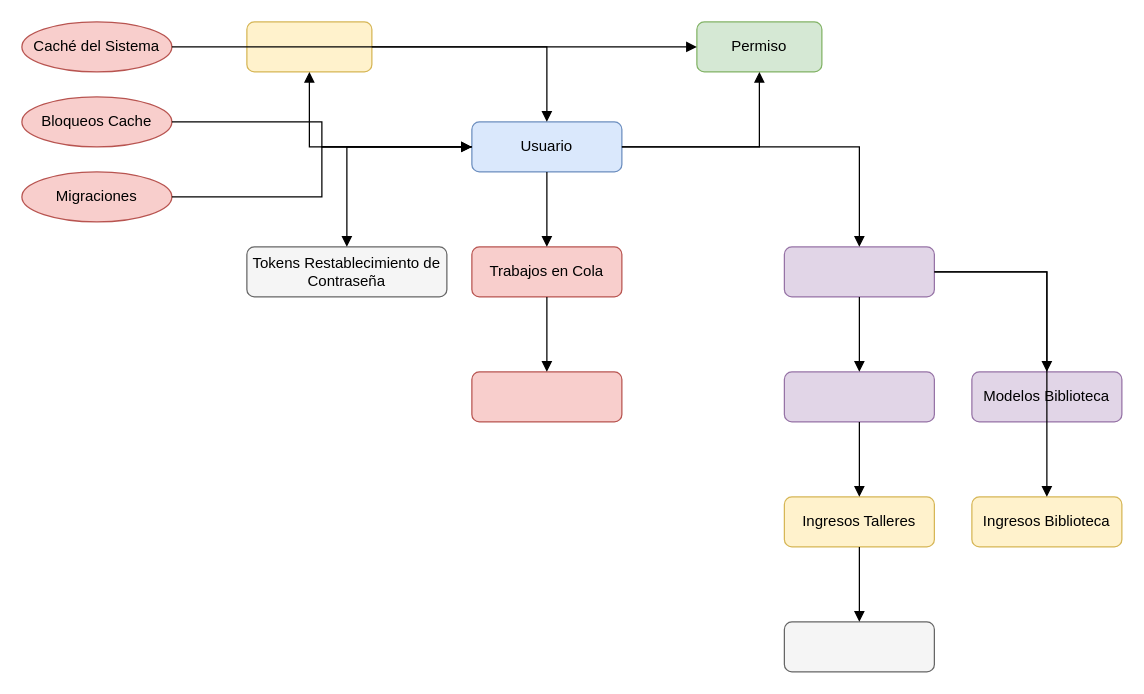
Image size: 1144x694. Some labels were removed from this diagram. Here are the shapes that lost their labels. From the top down, the centre of each, then its label:
At point (309, 46): "Rol".
At point (858, 271): "Modelos".
At point (546, 396): "Trabajos Fallidos".
At point (858, 396): "Modelos Talleres".
At point (858, 646): "Sesiones".
